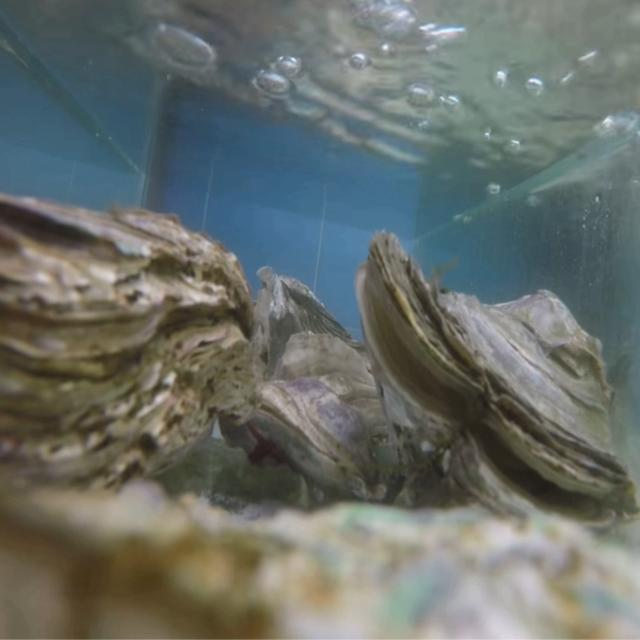Oyster-Closed: (0, 192, 256, 517), (248, 334, 414, 509)
Oyster-Indeterminate: (0, 483, 640, 640)
Oyster-Open: (354, 230, 640, 540)
